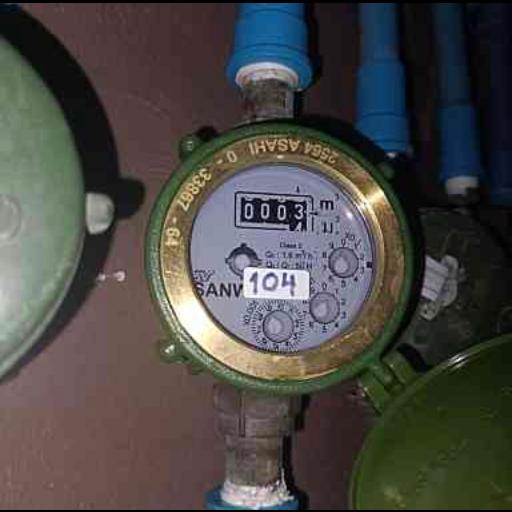0: (257, 198, 275, 223), (241, 196, 258, 222), (274, 199, 290, 224)
3: (289, 199, 307, 232)
border_water_meter_number: (233, 190, 315, 233)
